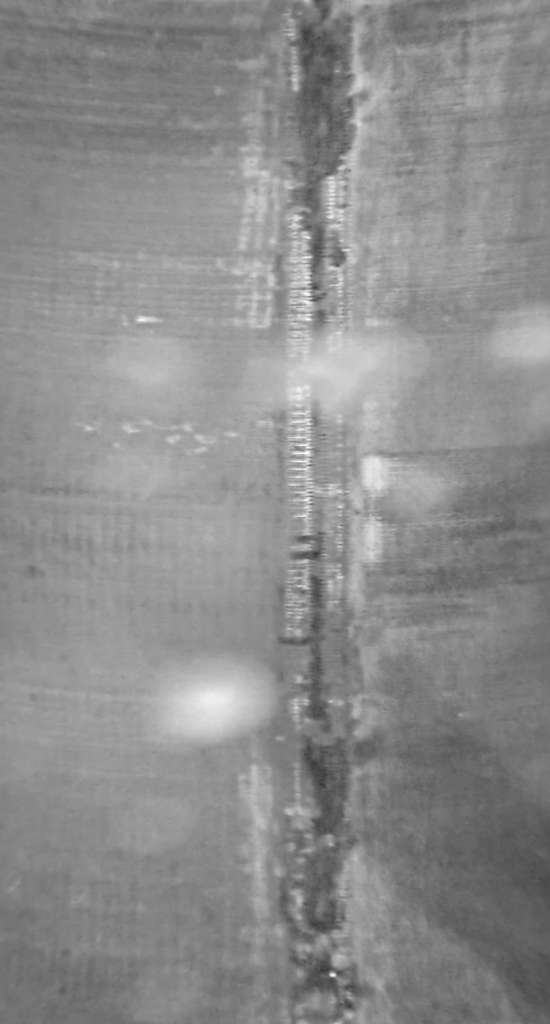splice: (278, 3, 371, 1024)
